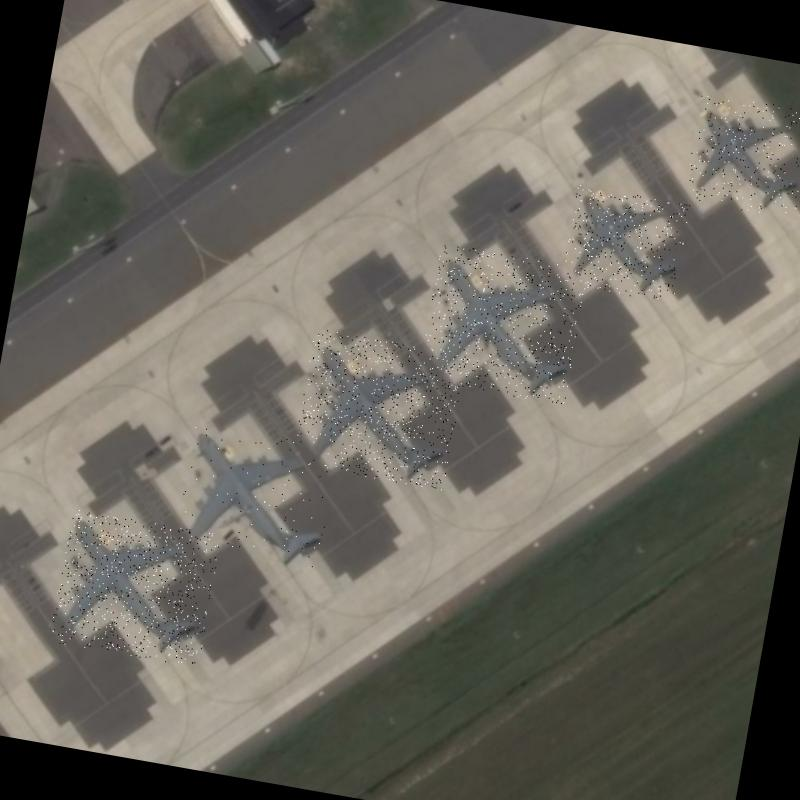A3: (560, 185, 690, 304), (683, 92, 800, 220)
A4: (291, 328, 468, 491), (418, 243, 588, 406), (49, 509, 222, 668), (174, 418, 340, 573)
